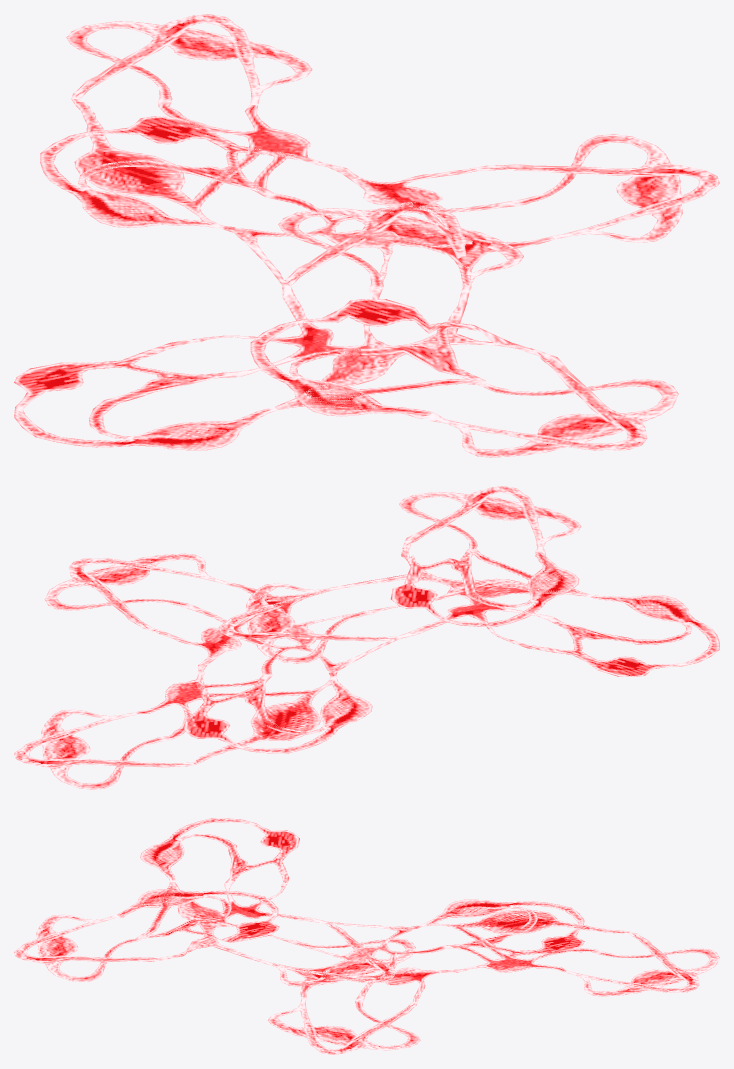
Rendered from fungalred.dae.
3 renders of one model, top to bottom at view 1: azimuth 30°, elevation 25°; view 2: azimuth 150°, elevation 25°; view 3: azimuth 270°, elevation 25°, orthographic. The views are drawn at different scales.
Parts seen in each view (by area): view 1: R2, R3, R4, R1; view 2: R2, R3, R4, R1; view 3: R2, R3, R4, R1.
Boxes of the visible parts, x1,y1,x2,y2 form: R2: (14,201,678,457); R3: (40,116,719,291); R4: (66,14,312,228); R1: (250,299,678,457); R2: (218,486,719,676); R3: (44,553,398,753); R4: (14,673,336,789); R1: (391,486,581,626); R2: (15,818,415,986); R3: (263,899,584,1054); R4: (421,910,719,996); R1: (14,889,279,981).
Bounding box in the file's own units: 1.84 × 0.0334 × 2.32.
